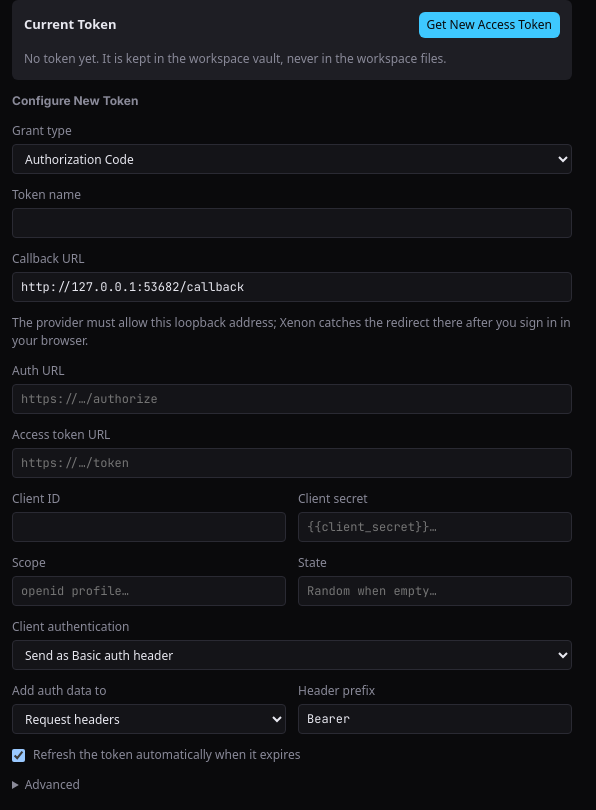
Test: OAuth2Form › shows the fields of each grant and flags the legacy ones
Check: the field labelled "Callback URL" holds "http://127.0.0.1:53682/callback", box left=12, top=272, right=572, bottom=302
Check: the field labelled "Auth URL" is shown, box left=12, top=384, right=572, bottom=414
Select "Authorization Code (With PKCE)" in the dropdown labelled "Grant type". click: [292, 159]
box: left=12, top=144, right=572, bottom=174
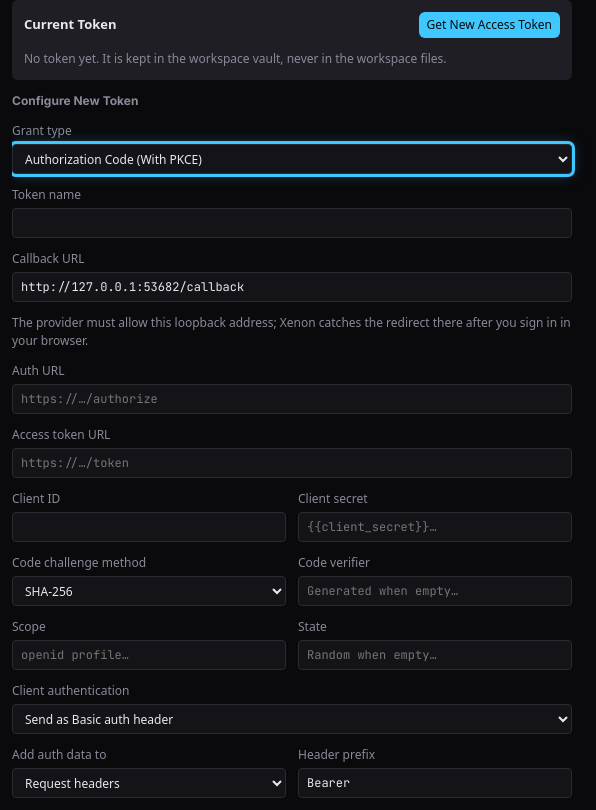
Check: the field labelled "Code verifier" is shown, box left=298, top=576, right=572, bottom=606
Select "Plain" in the dropdown labelled "Code challenge method". click: [149, 591]
box: left=12, top=576, right=286, bottom=606
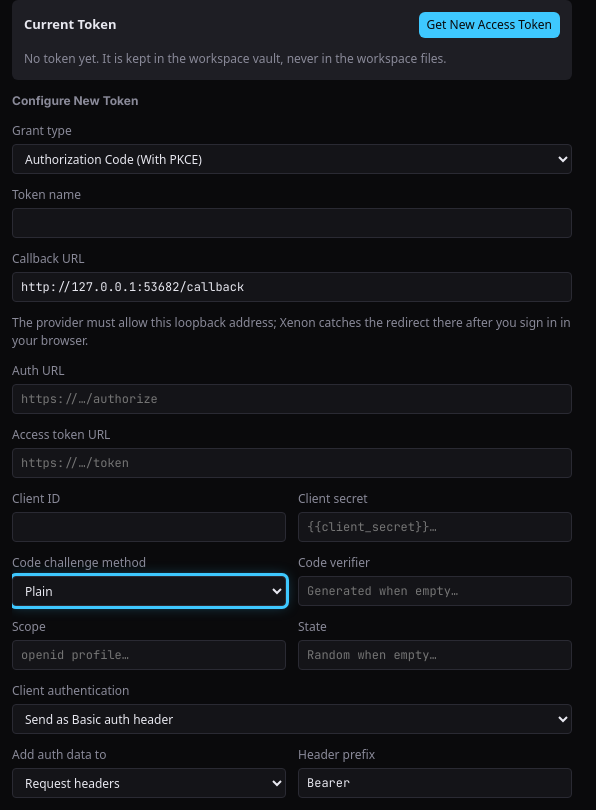
Select "Implicit (legacy)" in the dropdown labelled "Grant type". click: [292, 159]
box: left=12, top=144, right=572, bottom=174
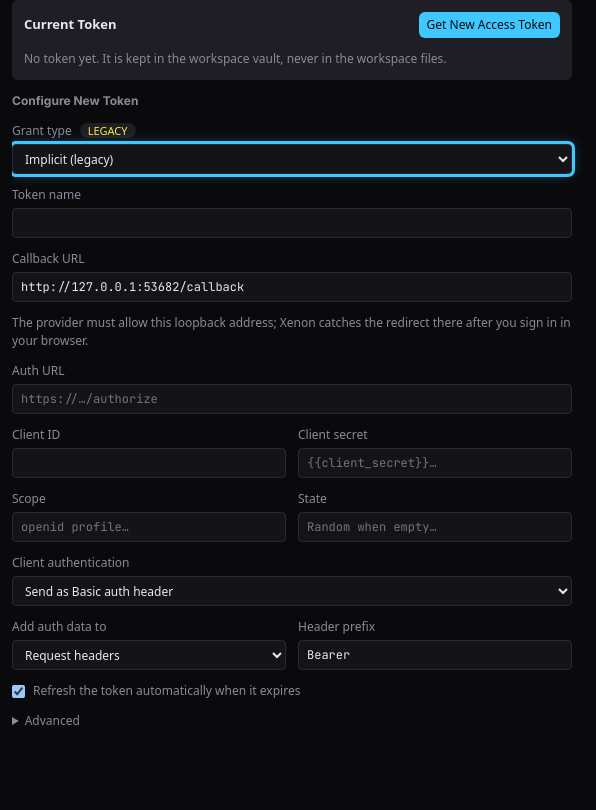
Check: the text "Legacy" is shown, box left=80, top=123, right=136, bottom=138
Check: the label "Access token URL" is gone
Select "Password Credentials (legacy)" in the dropdown labelled "Grant type". click: [292, 159]
box: left=12, top=144, right=572, bottom=174
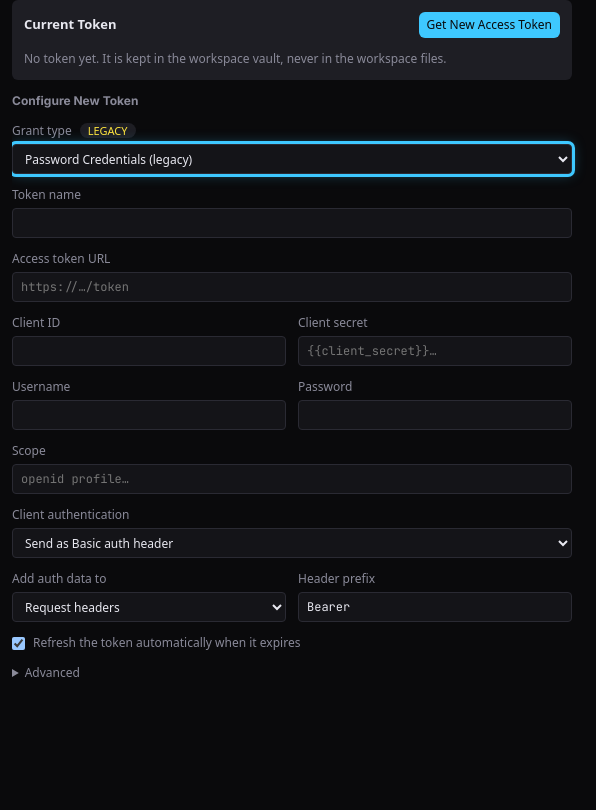
Check: the text "Legacy" is shown, box left=80, top=123, right=136, bottom=138
Type "ana" into the field labelled "Username". click: [149, 415]
box: left=12, top=400, right=286, bottom=430
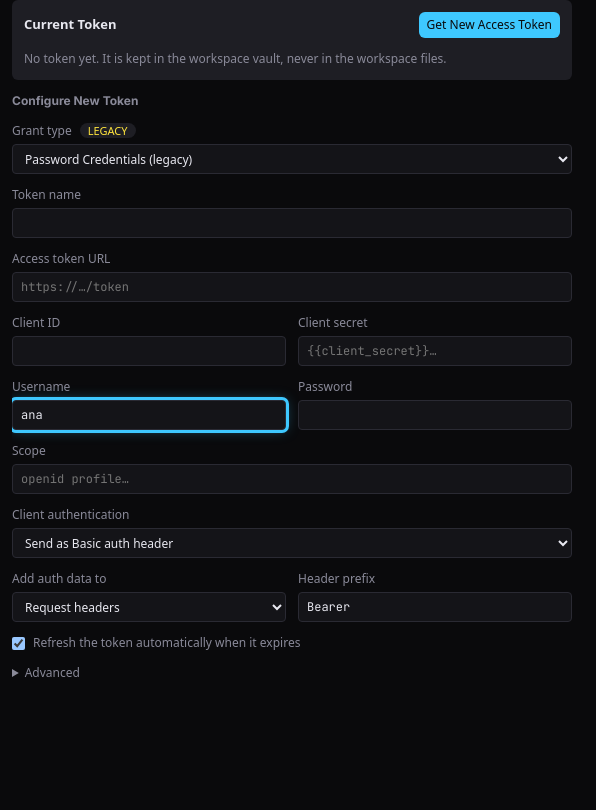
Select "Client Credentials" in the dropdown labelled "Grant type". click: [292, 159]
box: left=12, top=144, right=572, bottom=174
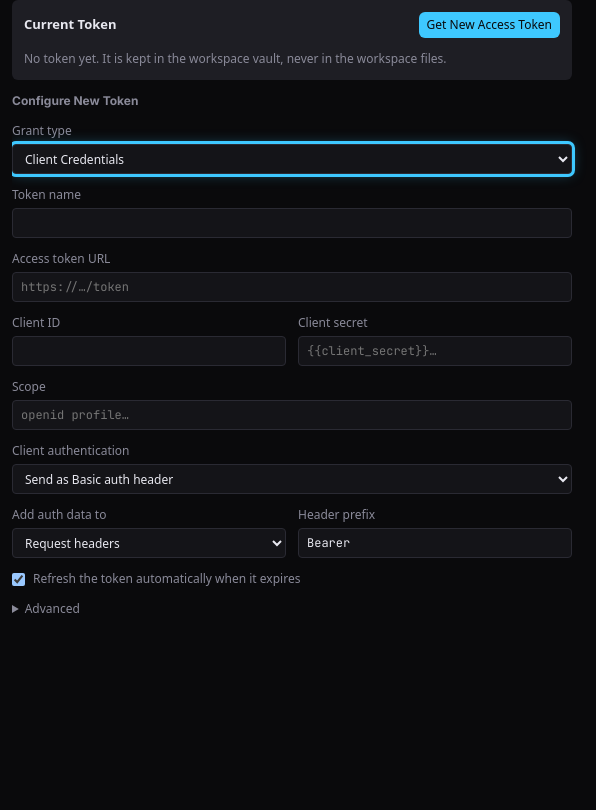
Check: the label "Callback URL" is not shown
Check: the text "Legacy" is gone
